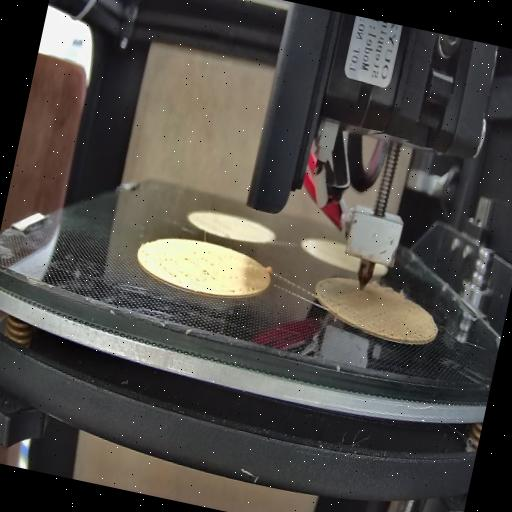under_extrusion: (143, 244, 262, 299), (376, 310, 436, 346)
